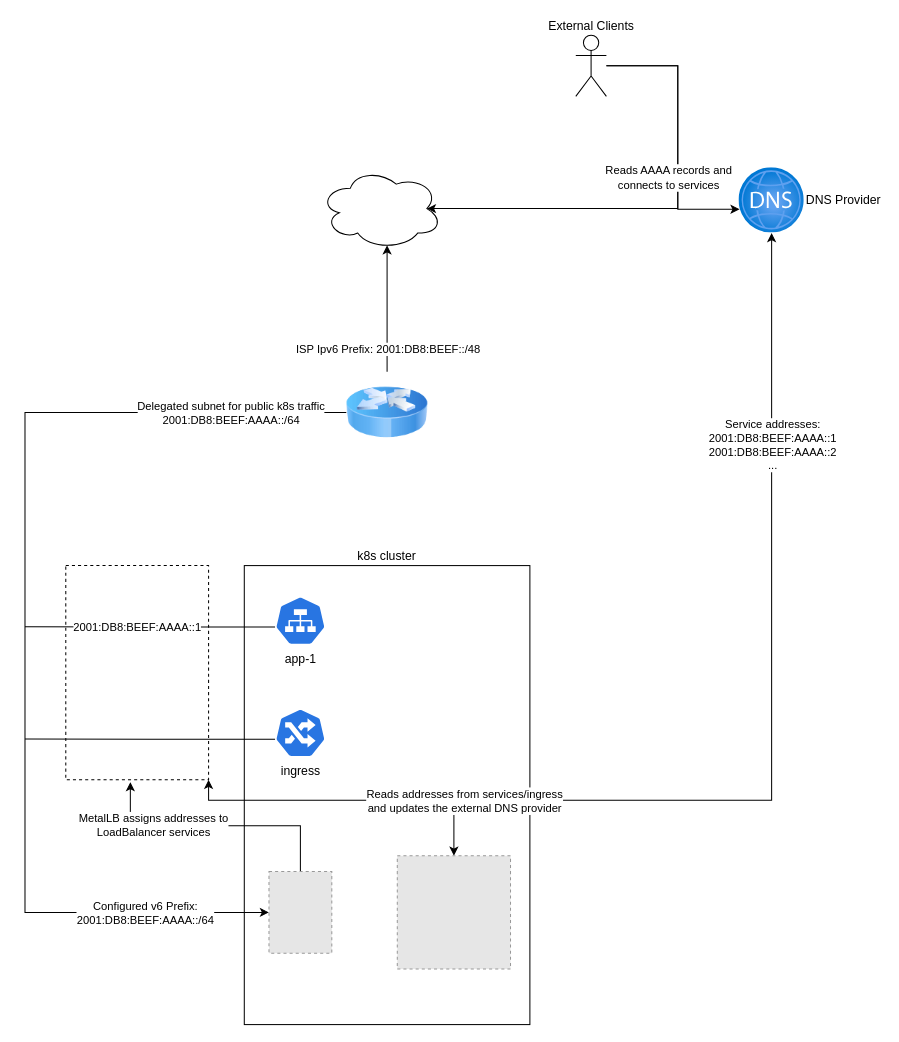
Image size: 899x1042. Some labels were removed from this diagram. Grey dashed boxes stand in for pictures. The box of each missing label's shape, as (x1, y1, x2, y2) in pixels:
2001:DB8:BEEF:AAAA::2: (65, 565, 209, 780)
ISP: (319, 167, 442, 249)
